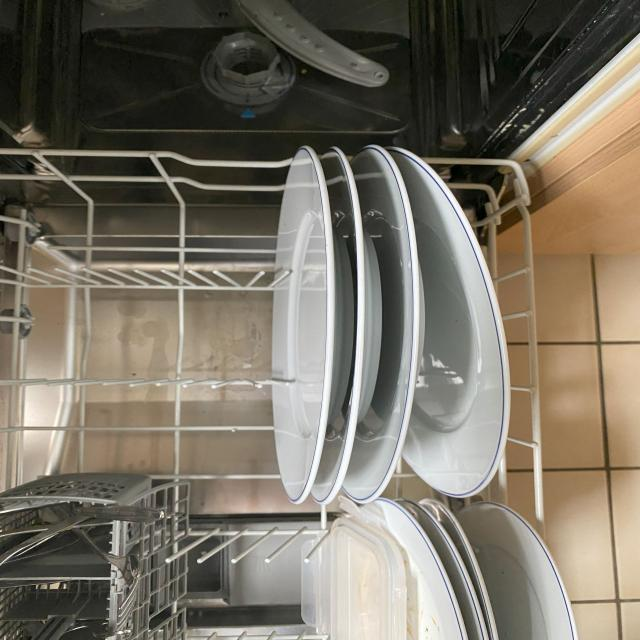clutery_bin: (6, 513, 120, 639)
empty_slot: (1, 147, 288, 512)
